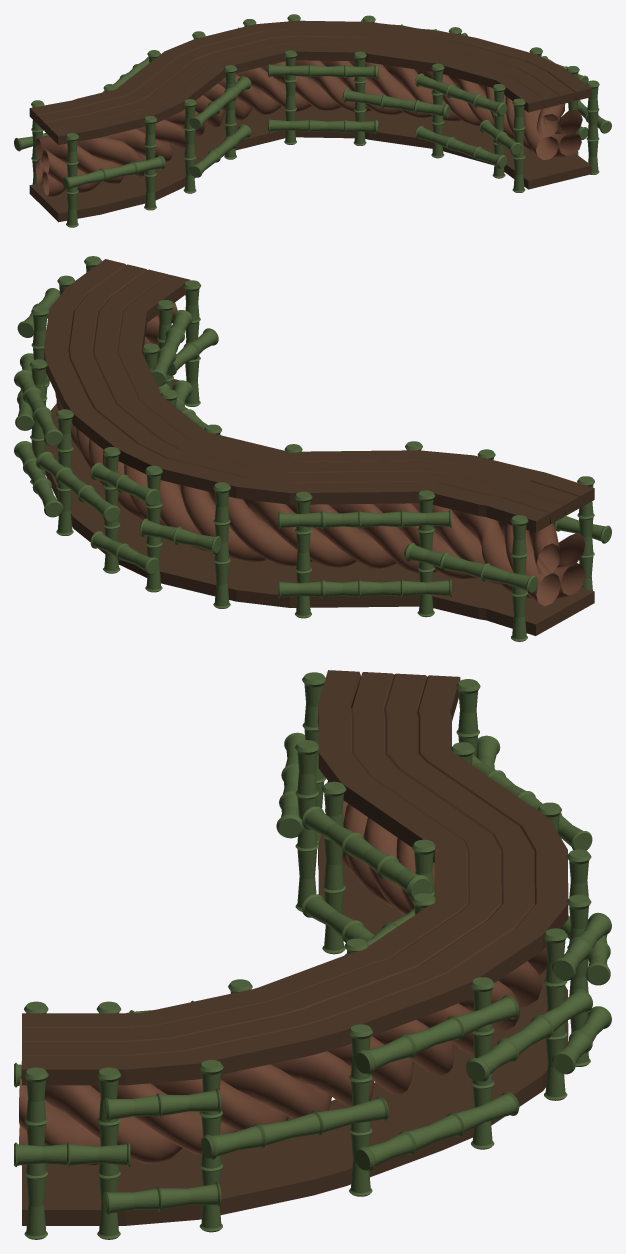
Rendered from echafaudage qui entoure racine 2.fbx.
The picture shows the model from 3 angles, top to bottom: view 1: azimuth 30°, elevation 25°; view 2: azimuth 150°, elevation 25°; view 3: azimuth 270°, elevation 25°; orthographic projection. The views are drawn at different scales.
Visible parts, largest first — view 1: planche en bois haut, bambou soutien 2.033, Cercle, planche en bois bas; view 2: planche en bois haut, bambou soutien 2.033, Cercle, planche en bois bas; view 3: planche en bois haut, bambou soutien 2.033, planche en bois bas, Cercle.
Part boxes in pixels (<box>): planche en bois haut: <box>29,20,591,144</box>; bambou soutien 2.033: <box>14,14,611,227</box>; Cercle: <box>35,60,582,196</box>; planche en bois bas: <box>29,106,591,222</box>; planche en bois haut: <box>44,259,594,532</box>; bambou soutien 2.033: <box>14,256,611,641</box>; Cercle: <box>55,302,585,606</box>; planche en bois bas: <box>45,379,594,635</box>; planche en bois haut: <box>22,670,568,1085</box>; bambou soutien 2.033: <box>14,672,611,1239</box>; planche en bois bas: <box>22,835,568,1225</box>; Cercle: <box>19,781,547,1166</box>.
Size of the model in its own units: 4191 by 764 by 2525.
